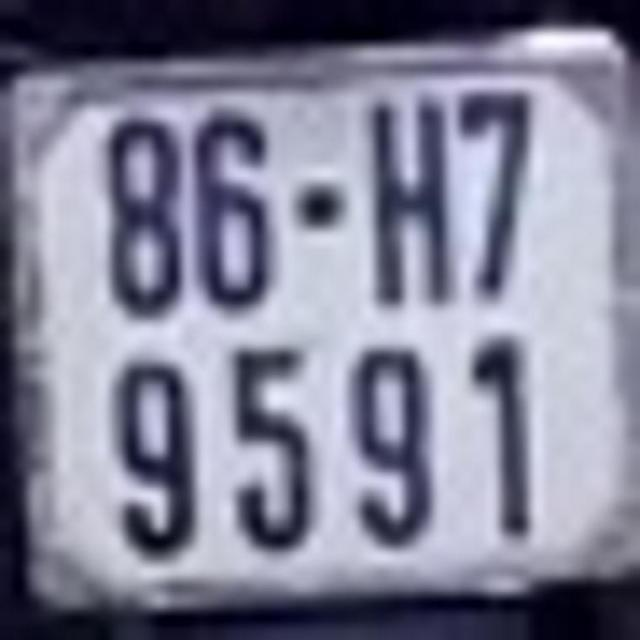1: (477, 333, 532, 538)
6: (194, 104, 274, 315)
7: (458, 91, 539, 311)
8: (106, 106, 185, 320)
9: (342, 343, 436, 552), (112, 356, 202, 562)
H: (369, 96, 456, 309)
